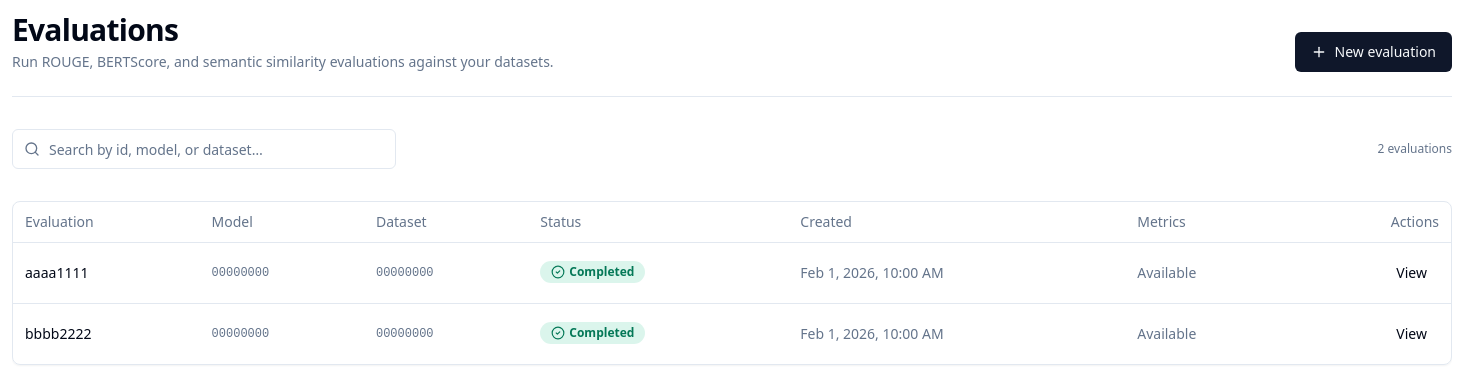
EvaluationsPage › filters rows client-side by search query
This screenshot has width=1464, height=382.
Expected: the link "aaaa1111" is shown, [25,262,88,282]
Type "bbbb" into the field named "search evaluations".
click(204, 149); type("bbbb")  # box [12,129,396,169]
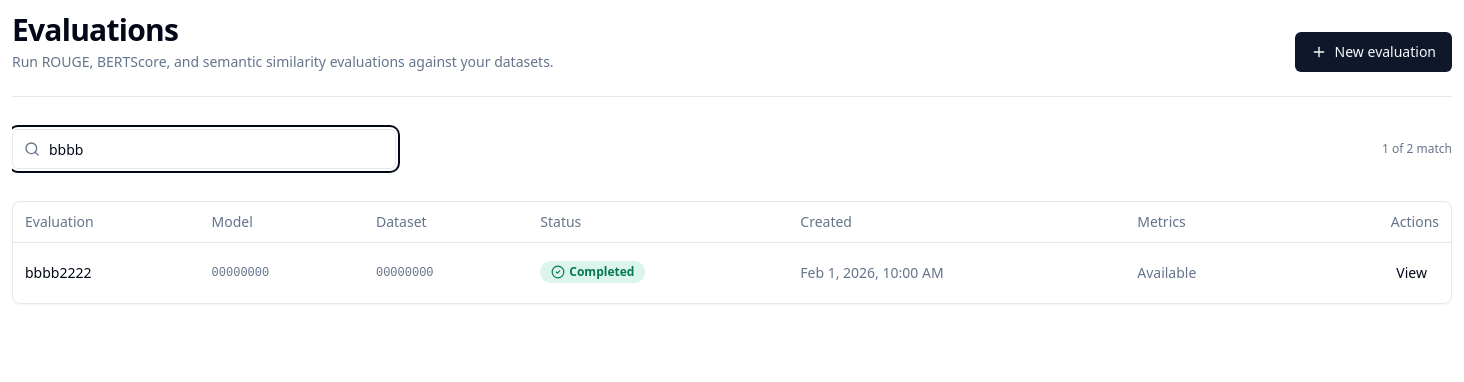
Expected: the link "bbbb2222" is shown, [25,262,92,282]
Expected: the link "aaaa1111" is gone
